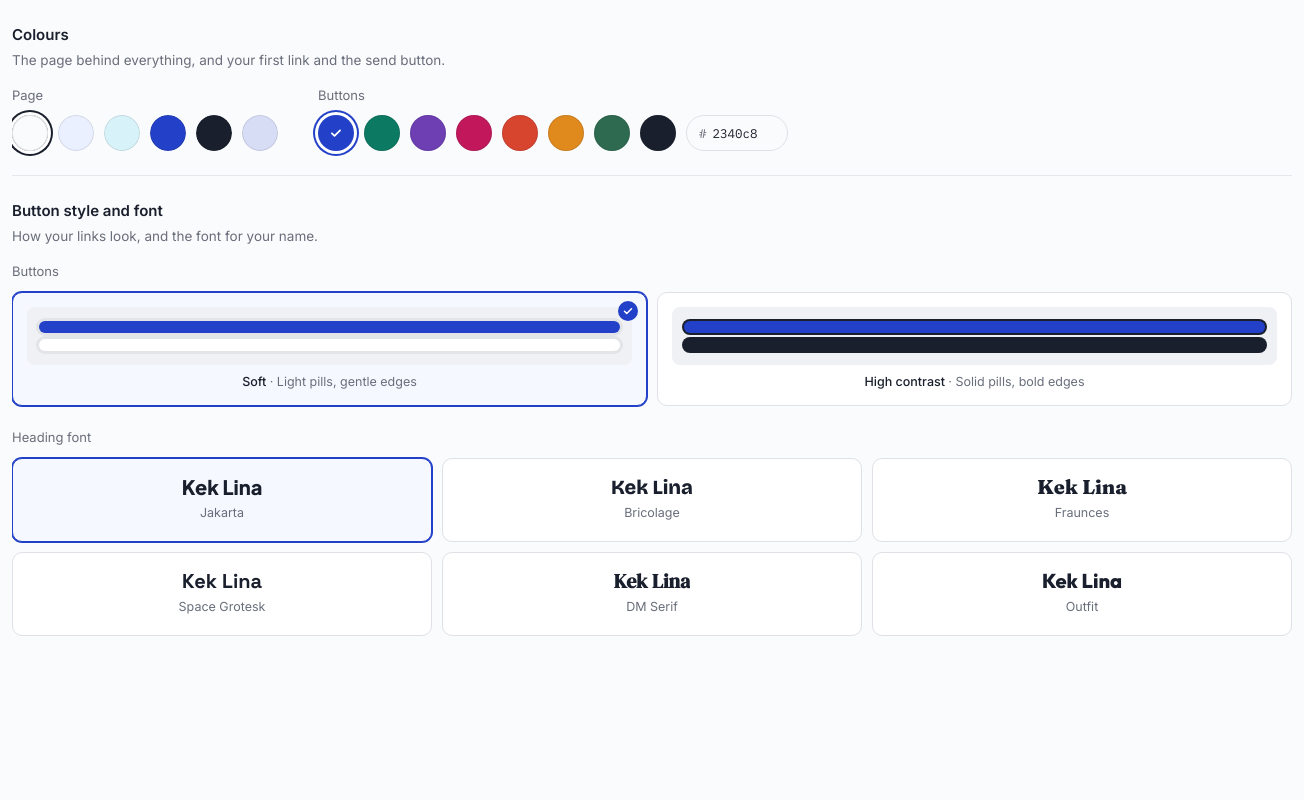
AppearanceEditor › syncs the custom colour field to a chosen preset
Click the button named "Purple": (428, 133) [410,115,446,151]
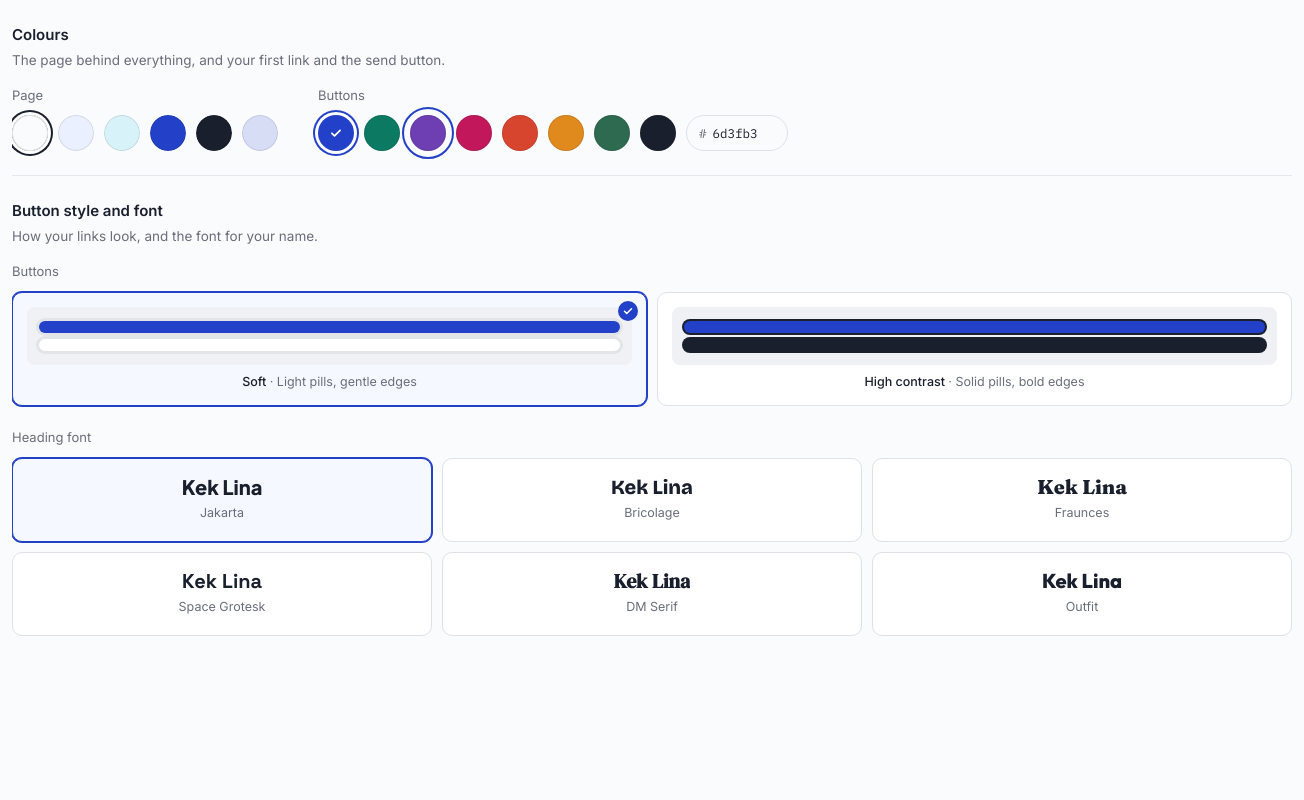
Expected: the field named "Accent colour as hex" holds "6d3fb3", [712,124,774,143]
